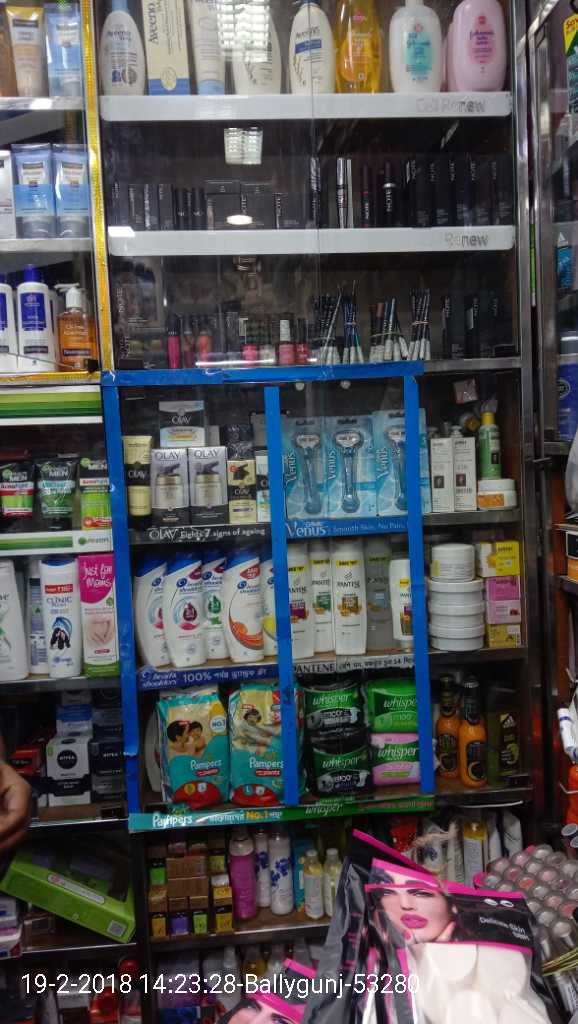venus: (377, 408, 427, 517), (328, 416, 377, 517), (287, 416, 328, 518)
